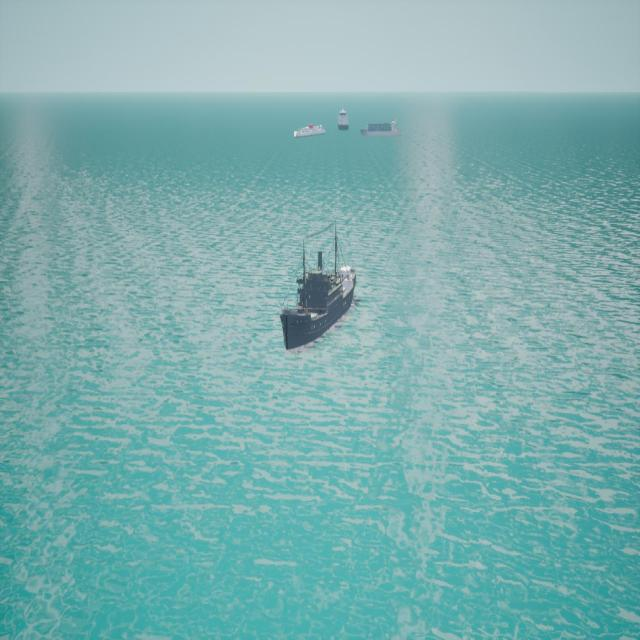fishing ship: (280, 232, 357, 351), (362, 123, 402, 141), (293, 126, 328, 141), (338, 111, 351, 133)
